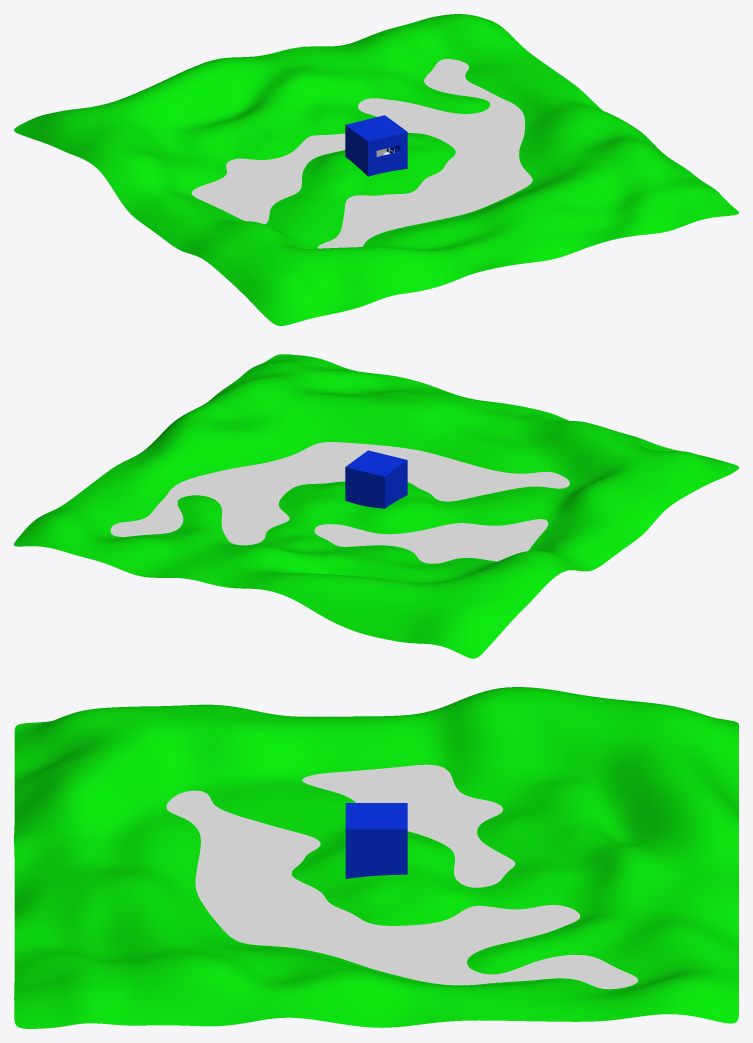
Rendered from demo.fbx.
The picture shows the model from 3 angles, top to bottom: view 1: azimuth 30°, elevation 25°; view 2: azimuth 150°, elevation 25°; view 3: azimuth 270°, elevation 25°; orthographic projection. The views are drawn at different scales.
Visible parts, largest first — view 1: Plane.001; view 2: Plane.001; view 3: Plane.001.
Boxes of the visible parts, x1,y1,x2,y2 form: Plane.001: [14, 14, 738, 325]; Plane.001: [14, 354, 738, 658]; Plane.001: [14, 687, 738, 1028].
Bounding box in the file's own units: 1.07 × 0.098 × 1.07.
